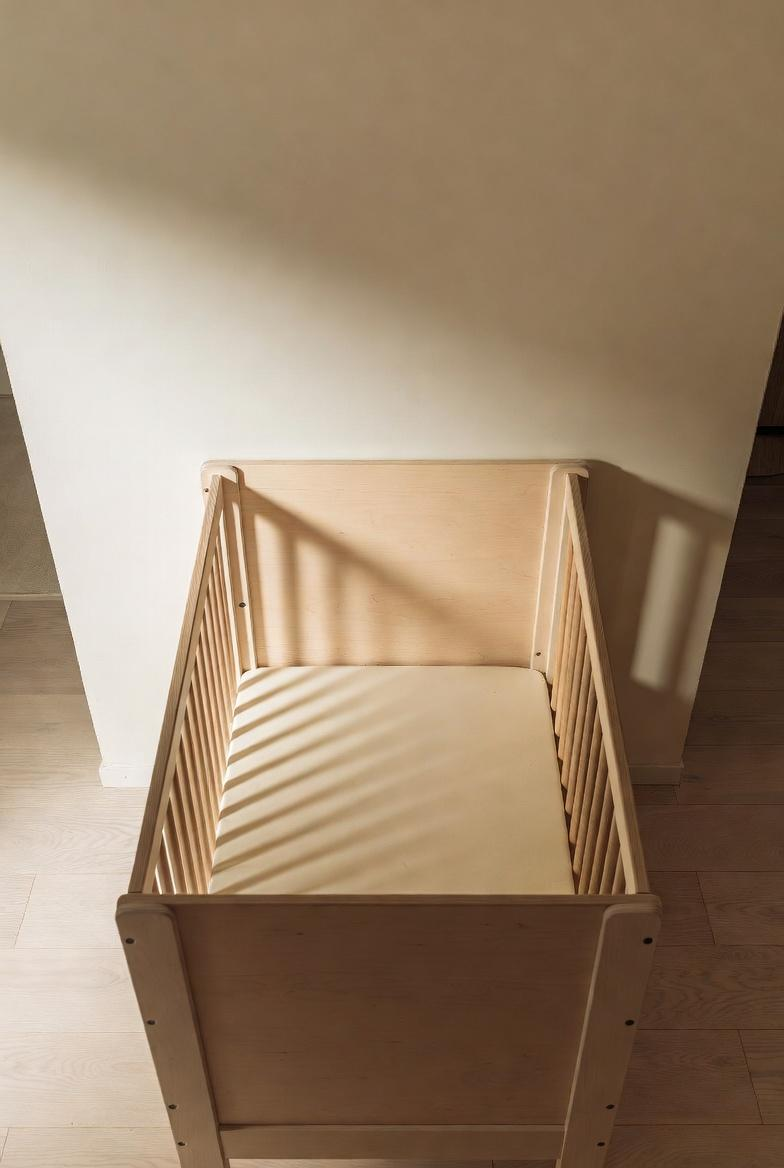crib: (117, 462, 660, 1168)
